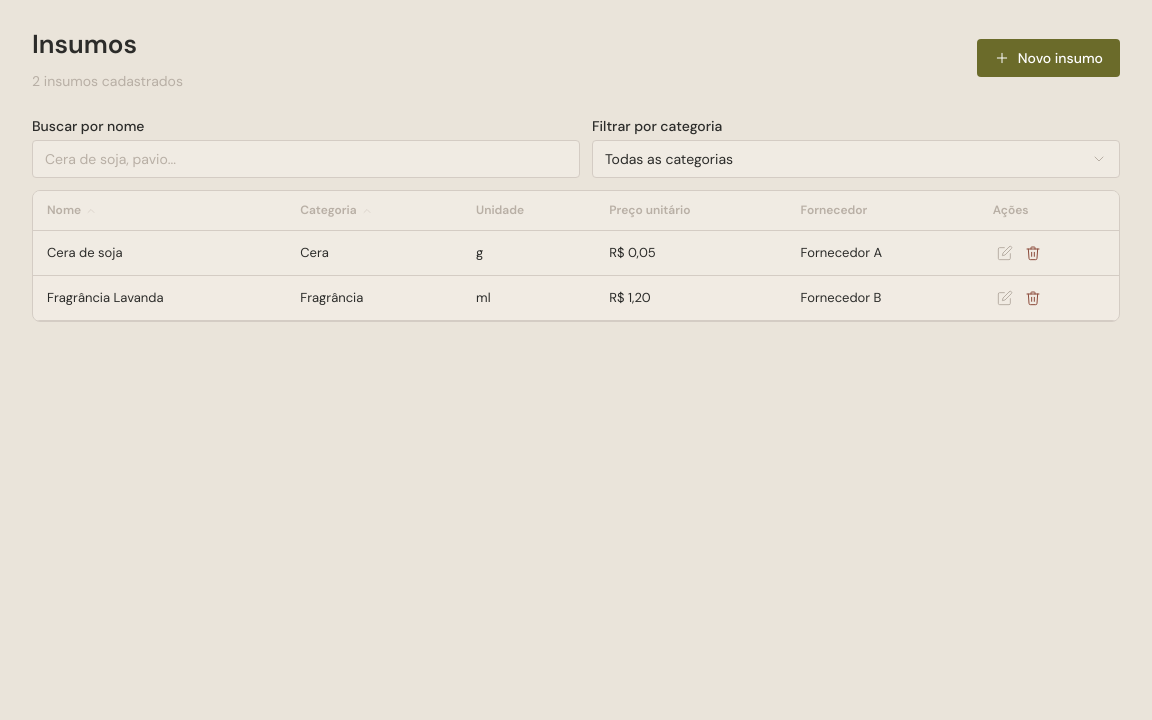
Test: Insumos › caso de erro: excluir insumo em uso na receita exibe toast claro e mantém o insumo na lista
What coordinates should you click on to do the following:
click the button named "excluir"
I would click on:
 (1033, 253)
Its box is [1021,241,1045,265].
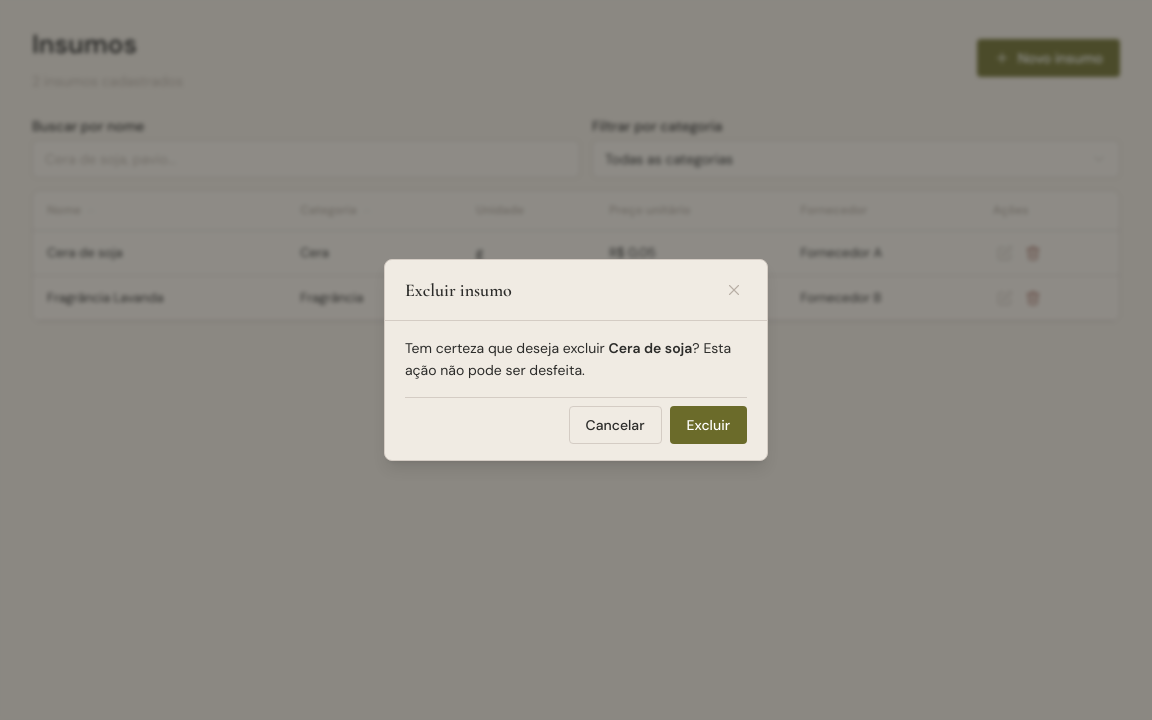
What coordinates should you click on to do the following:
click the button "Excluir"
I would click on:
 (708, 425)
Its box is [670,406,747,444].
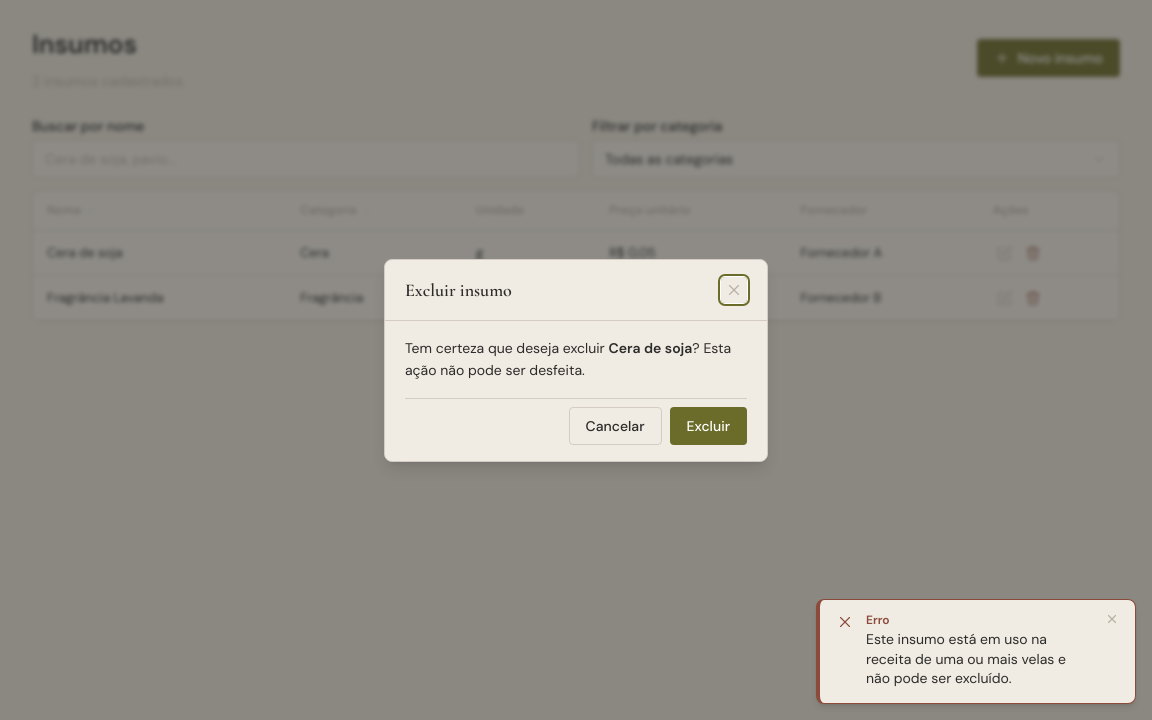
Expected: the text "Cera de soja" is shown, [33,231,286,276]
Now the text "Este insumo está em uso na receita de uma ou mais velas e não pode ser excluído" is shown, box [866,630,1066,687]
